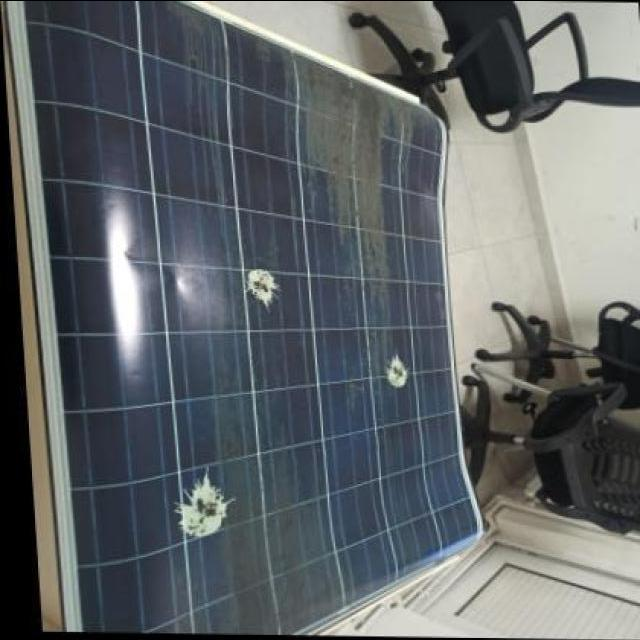soiled: (6, 1, 451, 632)
